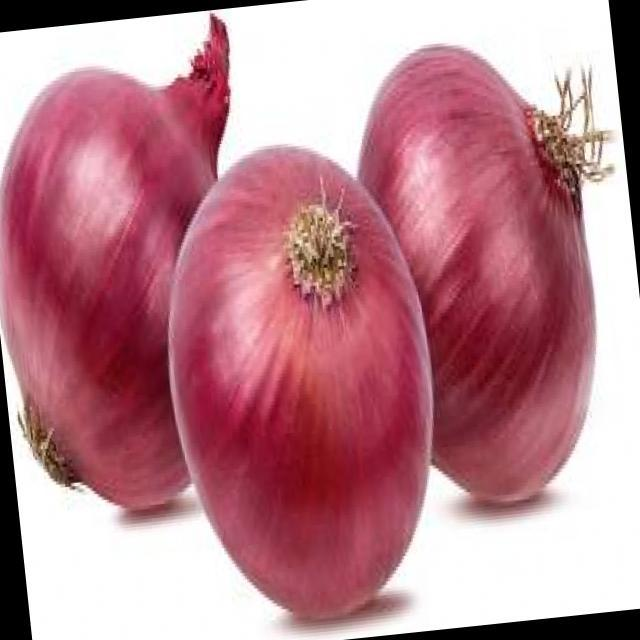ONIONS: (146, 130, 459, 636), (348, 25, 633, 516), (0, 39, 261, 514)
